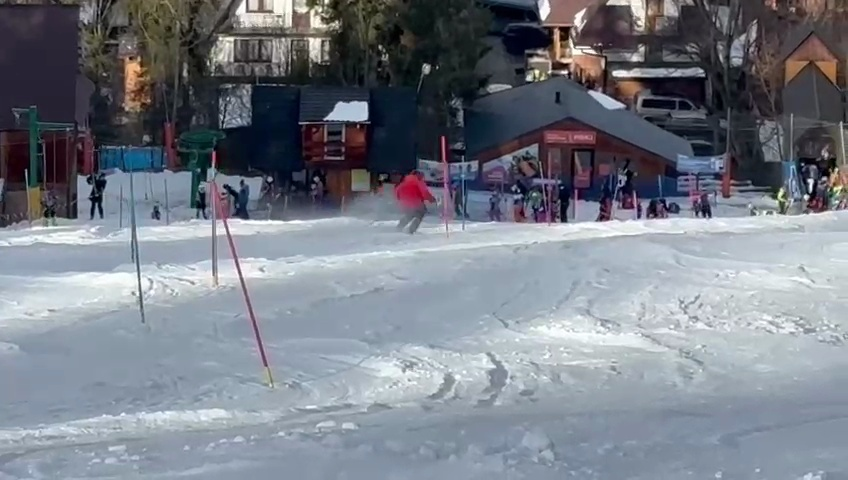gate: (209, 182, 281, 389), (124, 177, 156, 325), (436, 134, 458, 243), (203, 179, 223, 290)
